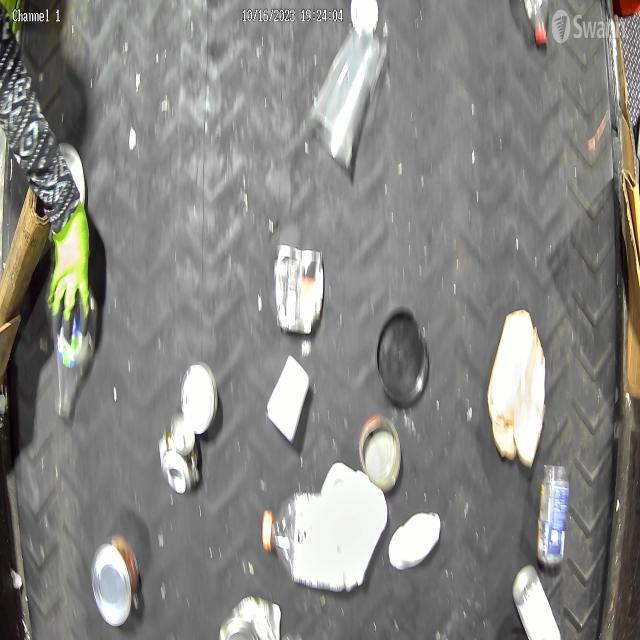can: (273, 242, 325, 338), (90, 534, 142, 628), (358, 411, 402, 494), (157, 413, 201, 495), (181, 360, 219, 436)
non_white_jug: (485, 305, 547, 470)
